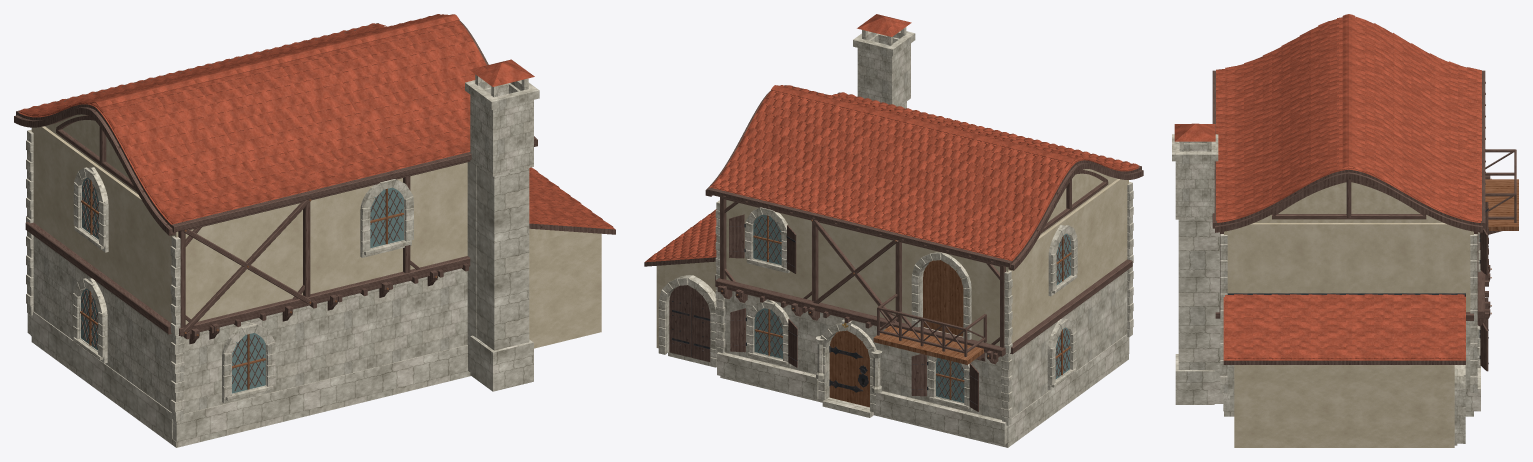
The model's file is B01_casa_taller.glb.
3 views of the same model, side by side, from view 1: azimuth 30°, elevation 25°; view 2: azimuth 150°, elevation 25°; view 3: azimuth 270°, elevation 25° (orthographic). The views are drawn at different scales.
Visible parts, largest first — view 1: AUR034_MAIN_ROOF_CLAY_TILES, AUR_SVG_WALL_UNIFIED.001, AUR_SVG_WALL_UNIFIED, CHIMENEA_FUSTE, ZOCALO_TRASERO, ANEXO_BACK_WALL, AUR034_CHIMENEA_CONDUCTO_HUECO, ZOCALO_OESTE, AUR034_MAIN_ROOF_RIDGE_CAPS, AUR_SVG_FLOOR, AUR034_FASCIA_0, CHIMENEA_BASE (+24 smaller); view 2: AUR034_MAIN_ROOF_CLAY_TILES, AUR_SVG_WALL_UNIFIED.001, AUR_SVG_WALL_UNIFIED, ZOCALO_FRENTE_0, AUR034_CHIMENEA_CONDUCTO_HUECO, ZOCALO_OESTE, AUR034_WORKSHOP_DOUBLE_LEAF, ZOCALO_FRENTE_1, AUR034_PUERTA_Puerta_balcon, AUR034_FASCIA_1, AUR034_PUERTA_Puerta_principal, AUR034_JETTY_SILL_FRONT (+33 smaller); view 3: AUR034_MAIN_ROOF_CLAY_TILES, ANEXO_SIDE_WALL, AUR_SVG_WALL_UNIFIED.001, AUR034_WORKSHOP_CLAY_TILES, CHIMENEA_FUSTE, AUR034_FRONTON_1, AUR034_CHIMENEA_CONDUCTO_HUECO, AUR034_MAIN_ROOF_RIDGE_CAPS, AUR034_SWEPT_GABLE_BEAM_1, CHIMENEA_ENCASTRE_MURO, AUR034_ANEXO_CUBIERTA, BALCON_PISO (+12 smaller).
Part boxes in pixels (left/top/right/bottom): AUR034_MAIN_ROOF_CLAY_TILES: left=19, top=14, right=484, bottom=223; AUR_SVG_WALL_UNIFIED.001: left=31, top=126, right=467, bottom=324; AUR_SVG_WALL_UNIFIED: left=33, top=236, right=467, bottom=440; CHIMENEA_FUSTE: left=476, top=165, right=529, bottom=350; ZOCALO_TRASERO: left=174, top=345, right=467, bottom=441; ANEXO_BACK_WALL: left=529, top=232, right=591, bottom=348; AUR034_CHIMENEA_CONDUCTO_HUECO: left=470, top=83, right=533, bottom=176; ZOCALO_OESTE: left=30, top=311, right=172, bottom=439; AUR034_MAIN_ROOF_RIDGE_CAPS: left=92, top=14, right=459, bottom=107; AUR_SVG_FLOOR: left=31, top=337, right=470, bottom=447; AUR034_FASCIA_0: left=171, top=137, right=535, bottom=232; CHIMENEA_BASE: left=470, top=335, right=533, bottom=391; AUR034_MAIN_ROOF_CLAY_TILES: left=711, top=85, right=1139, bottom=260; AUR_SVG_WALL_UNIFIED.001: left=726, top=179, right=1128, bottom=346; AUR_SVG_WALL_UNIFIED: left=724, top=270, right=1128, bottom=419; ZOCALO_FRENTE_0: left=876, top=391, right=1007, bottom=444; AUR034_CHIMENEA_CONDUCTO_HUECO: left=857, top=33, right=910, bottom=106; ZOCALO_OESTE: left=1007, top=334, right=1126, bottom=442; AUR034_WORKSHOP_DOUBLE_LEAF: left=669, top=285, right=710, bottom=361; ZOCALO_FRENTE_1: left=717, top=352, right=818, bottom=399; AUR034_PUERTA_Puerta_balcon: left=923, top=260, right=963, bottom=336; AUR034_FASCIA_1: left=707, top=187, right=1012, bottom=267; AUR034_PUERTA_Puerta_principal: left=829, top=330, right=869, bottom=407; AUR034_JETTY_SILL_FRONT: left=715, top=278, right=1005, bottom=356; AUR034_MAIN_ROOF_CLAY_TILES: left=1216, top=17, right=1481, bottom=221; ANEXO_SIDE_WALL: left=1234, top=365, right=1454, bottom=447; AUR_SVG_WALL_UNIFIED.001: left=1224, top=223, right=1473, bottom=311; AUR034_WORKSHOP_CLAY_TILES: left=1225, top=294, right=1464, bottom=359; CHIMENEA_FUSTE: left=1178, top=219, right=1209, bottom=369; AUR034_FRONTON_1: left=1254, top=182, right=1443, bottom=222; AUR034_CHIMENEA_CONDUCTO_HUECO: left=1175, top=143, right=1214, bottom=219; AUR034_MAIN_ROOF_RIDGE_CAPS: left=1342, top=14, right=1355, bottom=167; AUR034_SWEPT_GABLE_BEAM_1: left=1215, top=172, right=1482, bottom=232; CHIMENEA_ENCASTRE_MURO: left=1209, top=219, right=1223, bottom=403; AUR034_ANEXO_CUBIERTA: left=1223, top=296, right=1465, bottom=364; BALCON_PISO: left=1485, top=179, right=1518, bottom=230.
Size of the model in its own units: 13.55 by 9.23 by 10.43.
9 materials, 6 textured.
